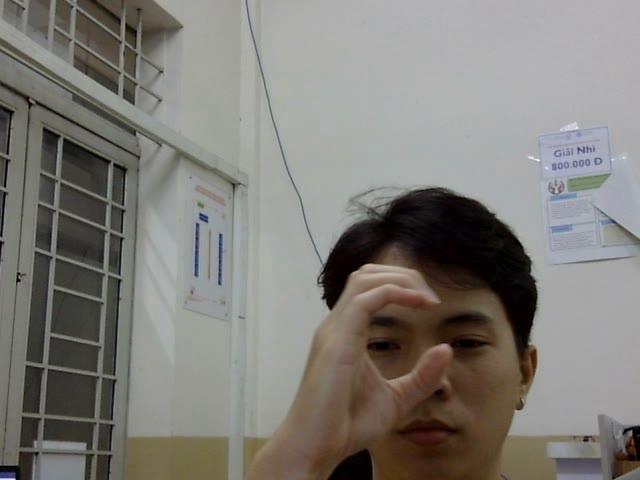C: (276, 262, 452, 459)
